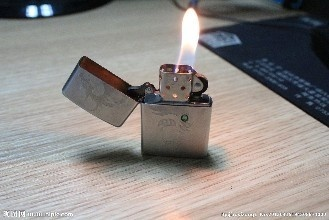fire: (175, 3, 201, 69)
